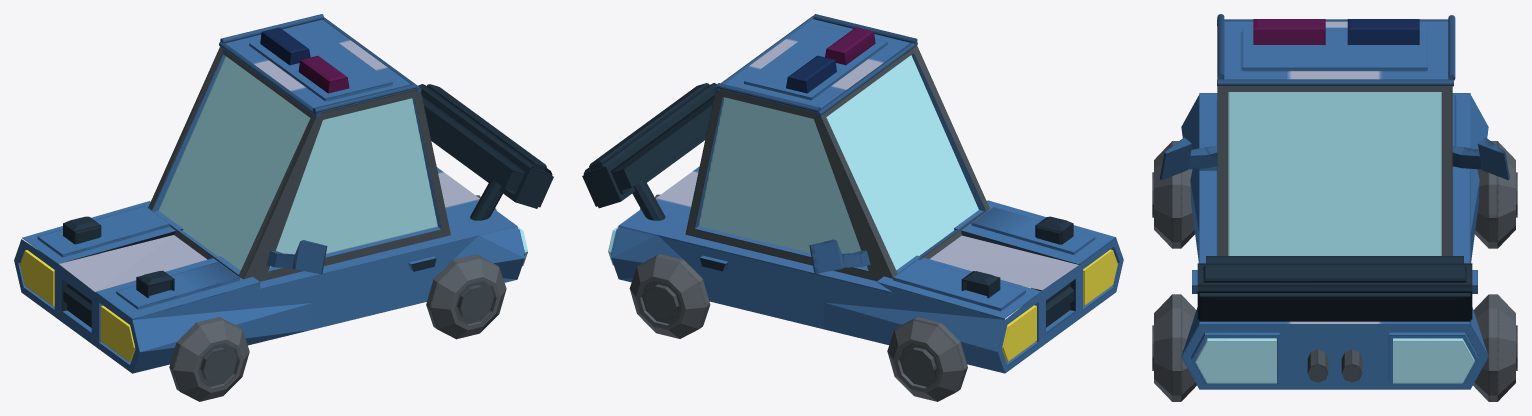
The model's file is c5f7a1fb-dddb-4d67-b1a9-56feb2efbfe1.glb.
3 views of the same model, side by side, from view 1: azimuth 30°, elevation 25°; view 2: azimuth 150°, elevation 25°; view 3: azimuth 270°, elevation 25° (orthographic). The views are drawn at different scales.
Visible parts, largest first — view 1: Node; view 2: Node; view 3: Node.
Part boxes in pixels (x1,y1,x2,y2): Node: (14, 14, 553, 401); Node: (582, 14, 1123, 401); Node: (1152, 14, 1517, 401).
Size of the model in its own units: 329 by 192 by 202.
Materials: 1 (1 with a texture image).
